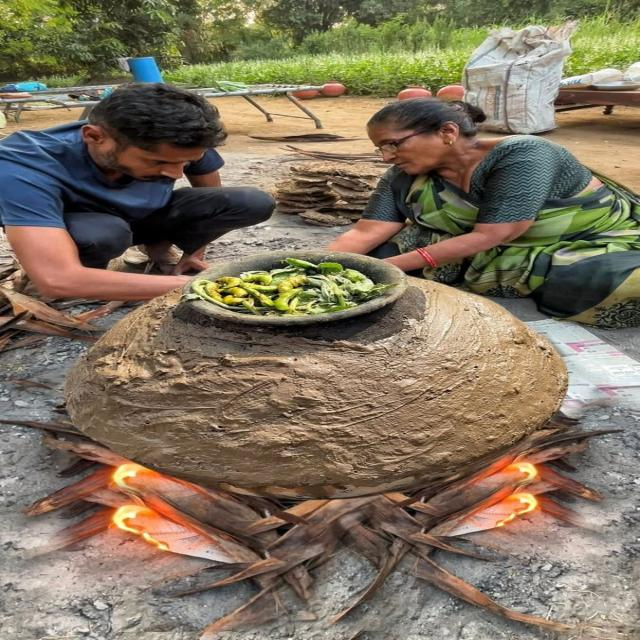fire: (112, 504, 156, 535)
